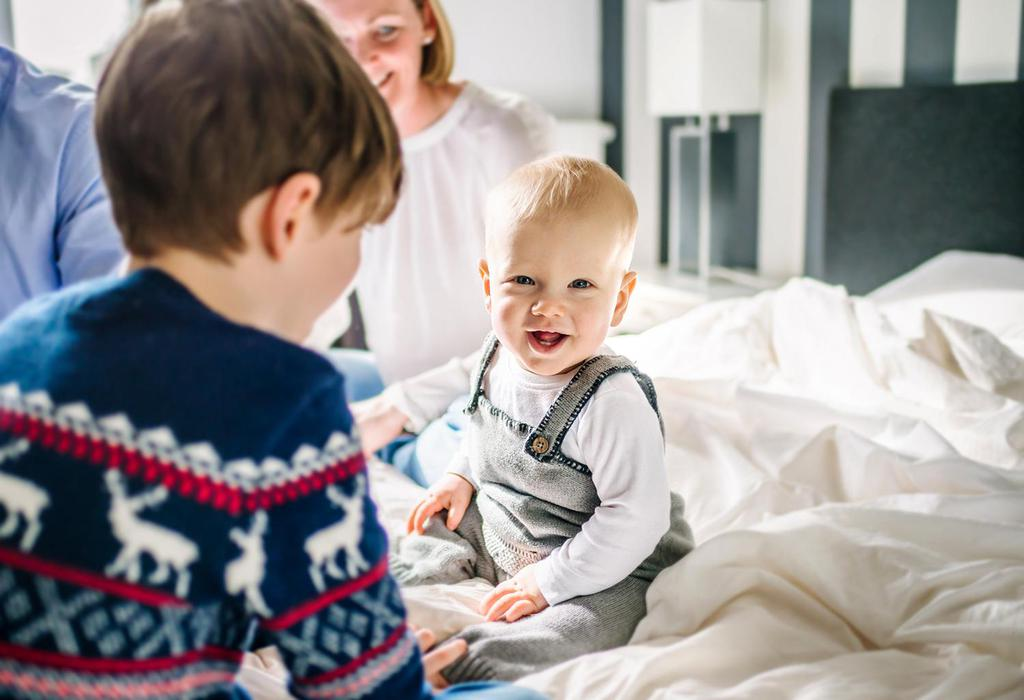child: (435, 152, 703, 679)
